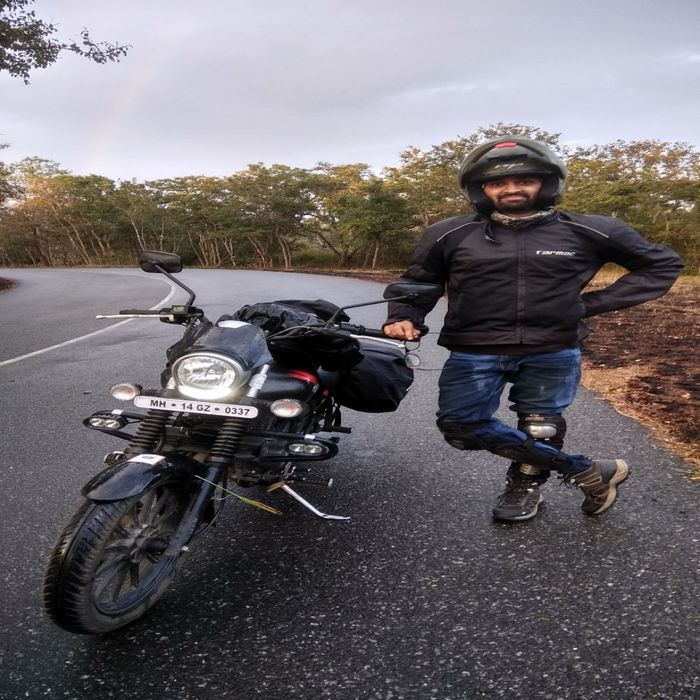h: (456, 134, 570, 214)
n: (131, 394, 262, 424)
